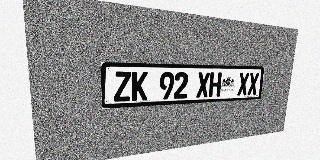2: (174, 72, 188, 99)
9: (159, 72, 174, 100)
H: (208, 72, 222, 97)
K: (131, 72, 148, 101)
X: (196, 72, 210, 98), (237, 73, 249, 96), (247, 73, 259, 95)
Z: (114, 71, 131, 102)
